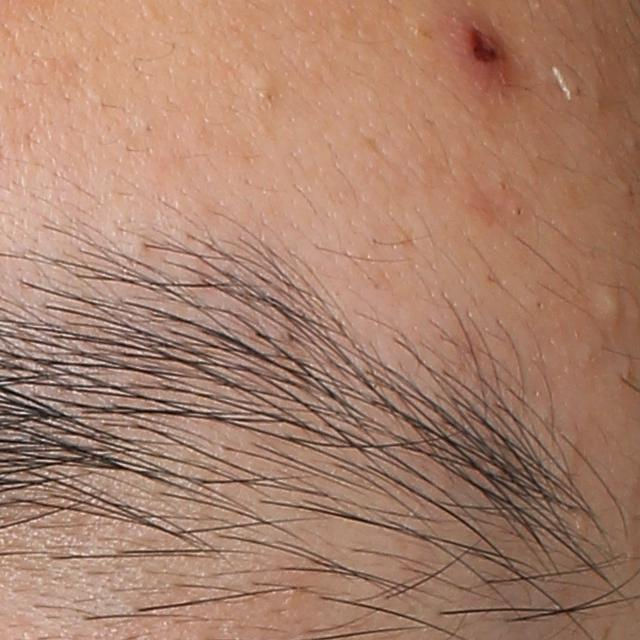comedo: (598, 280, 626, 327), (254, 72, 284, 109)
papule: (446, 16, 517, 86)
